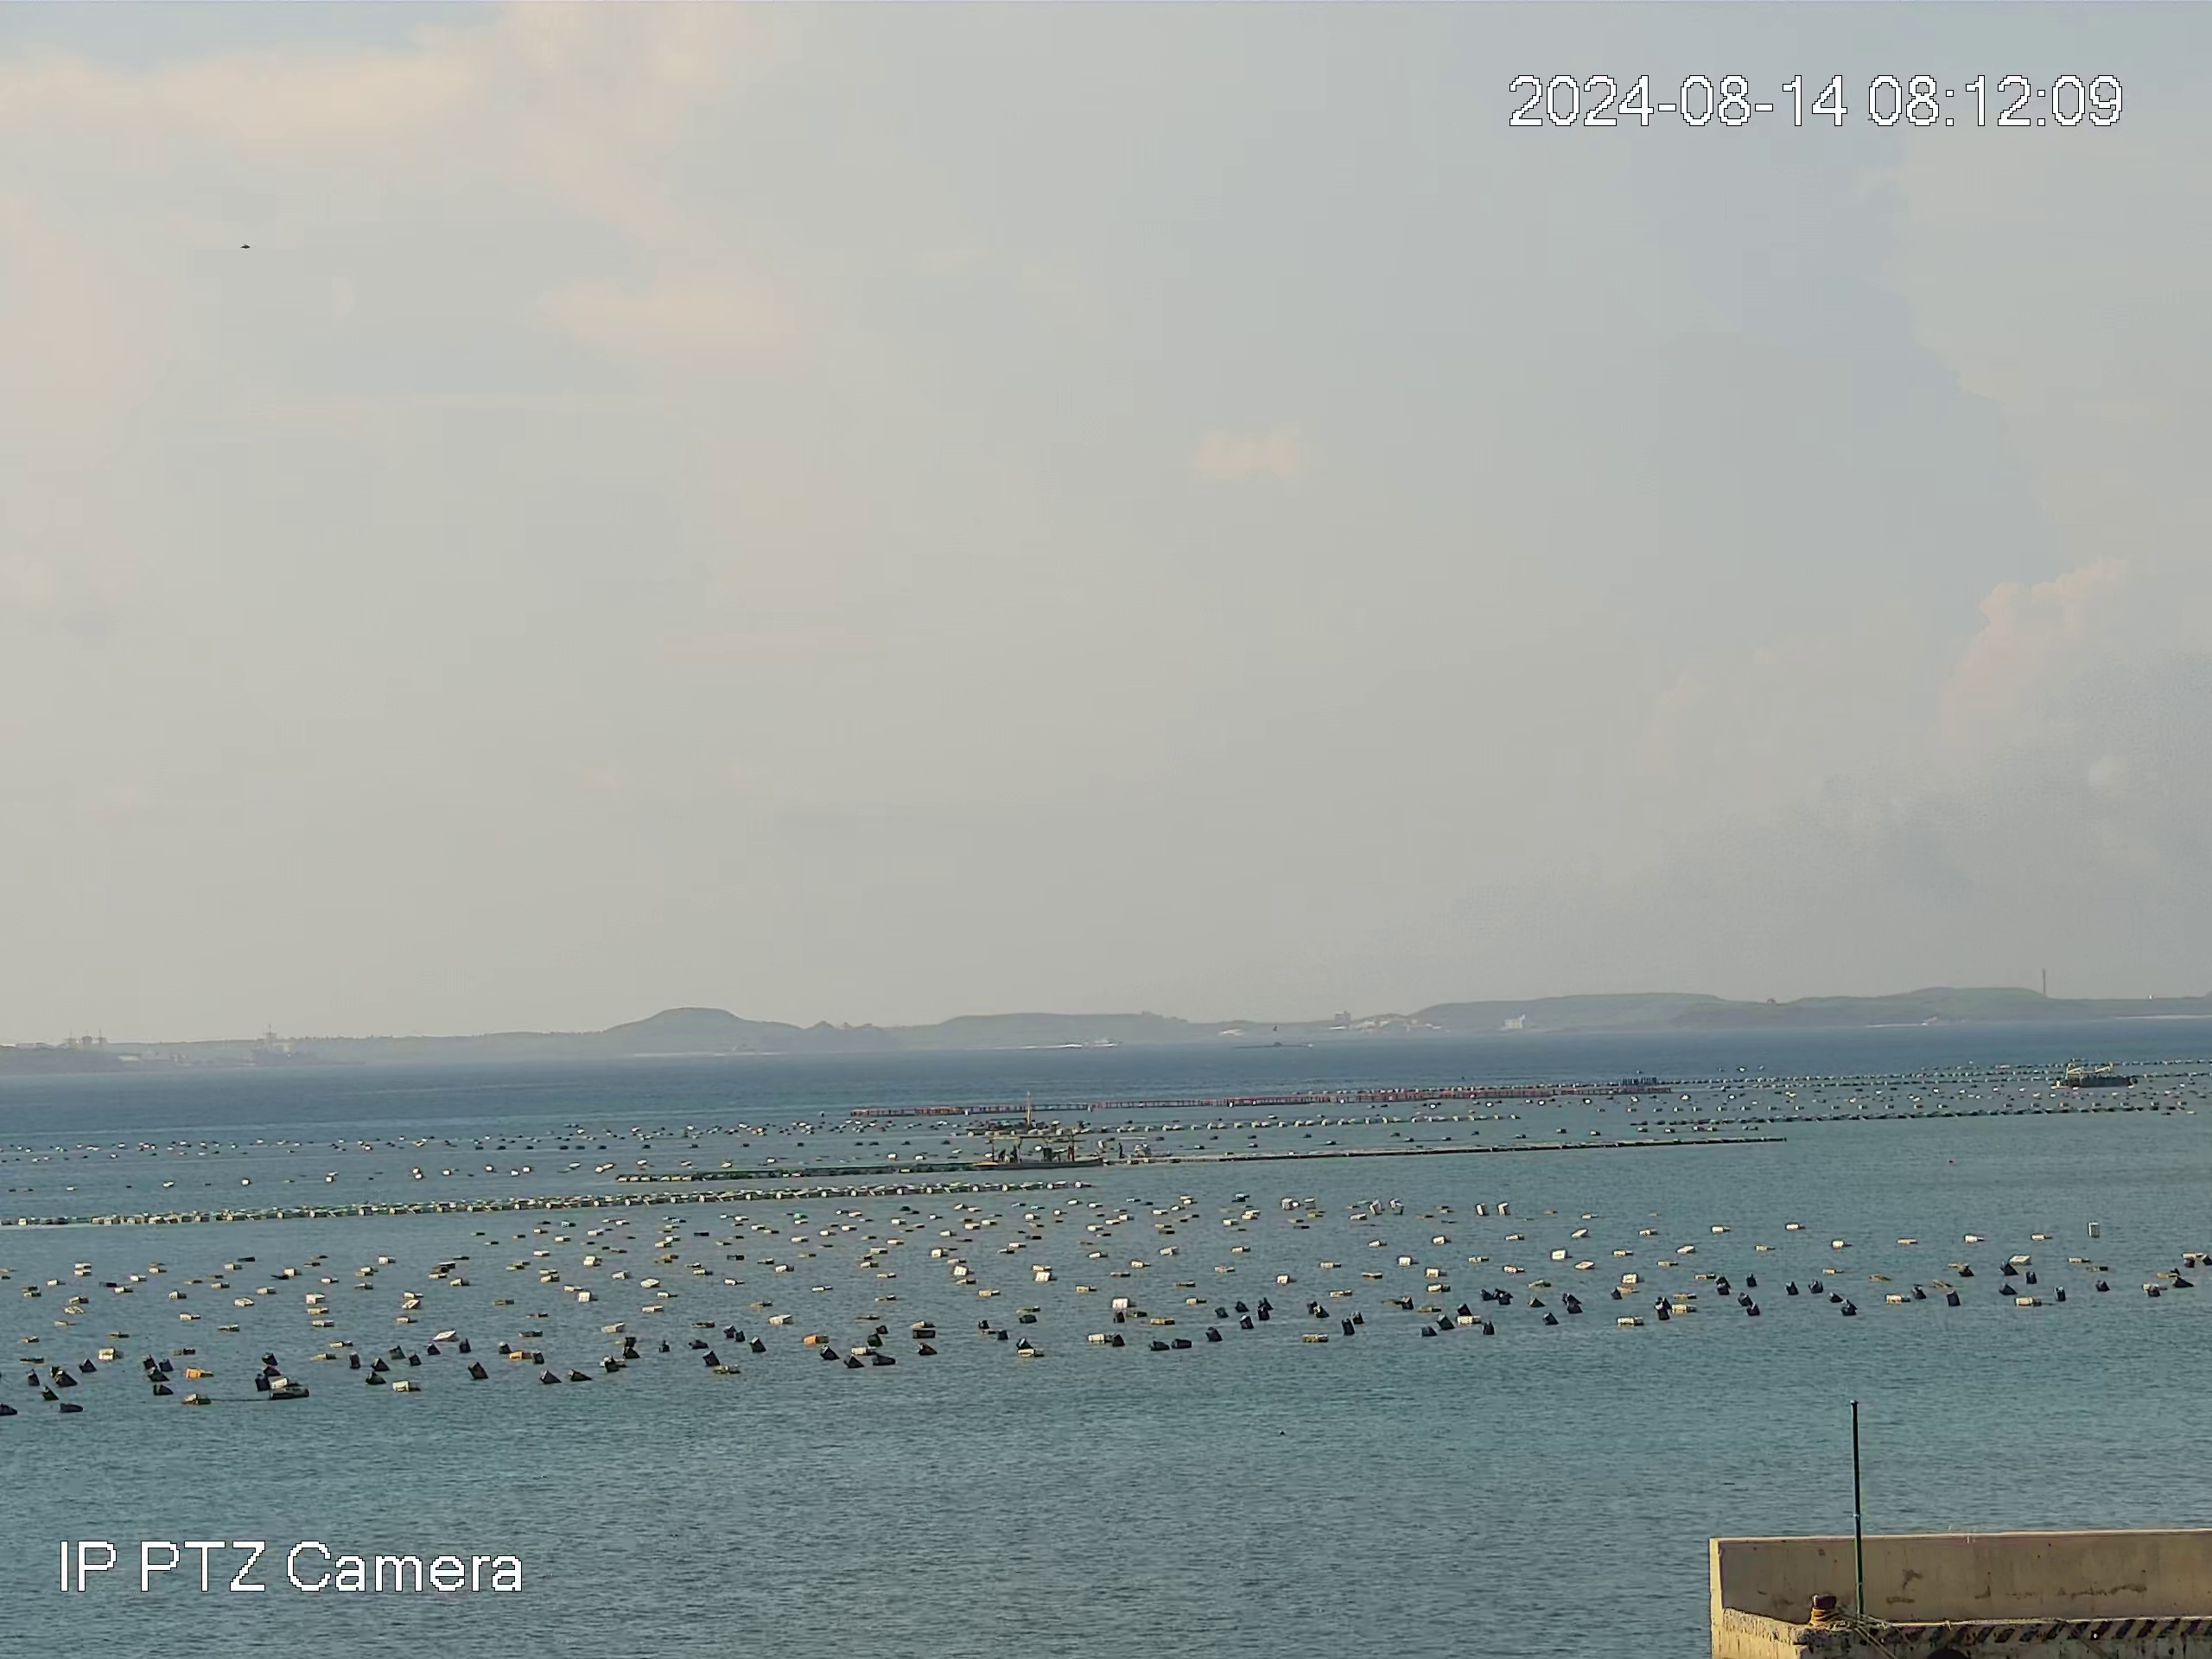boat: (974, 1134, 1103, 1168), (2054, 1058, 2137, 1087)
